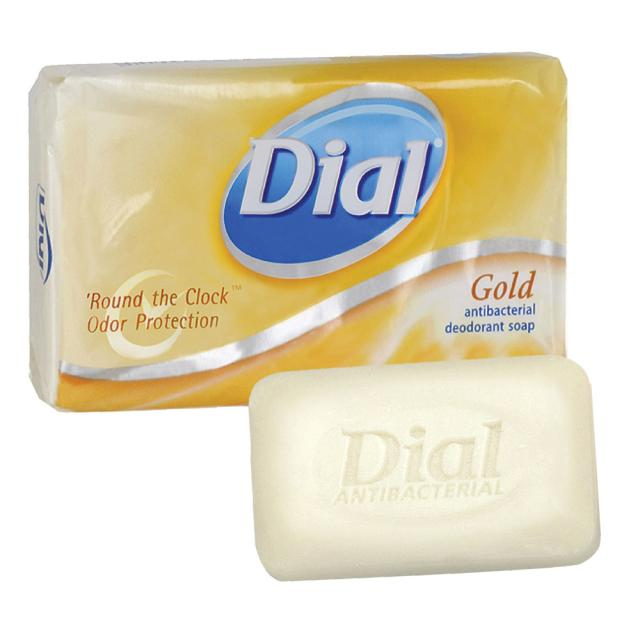soap: (243, 349, 606, 586)
